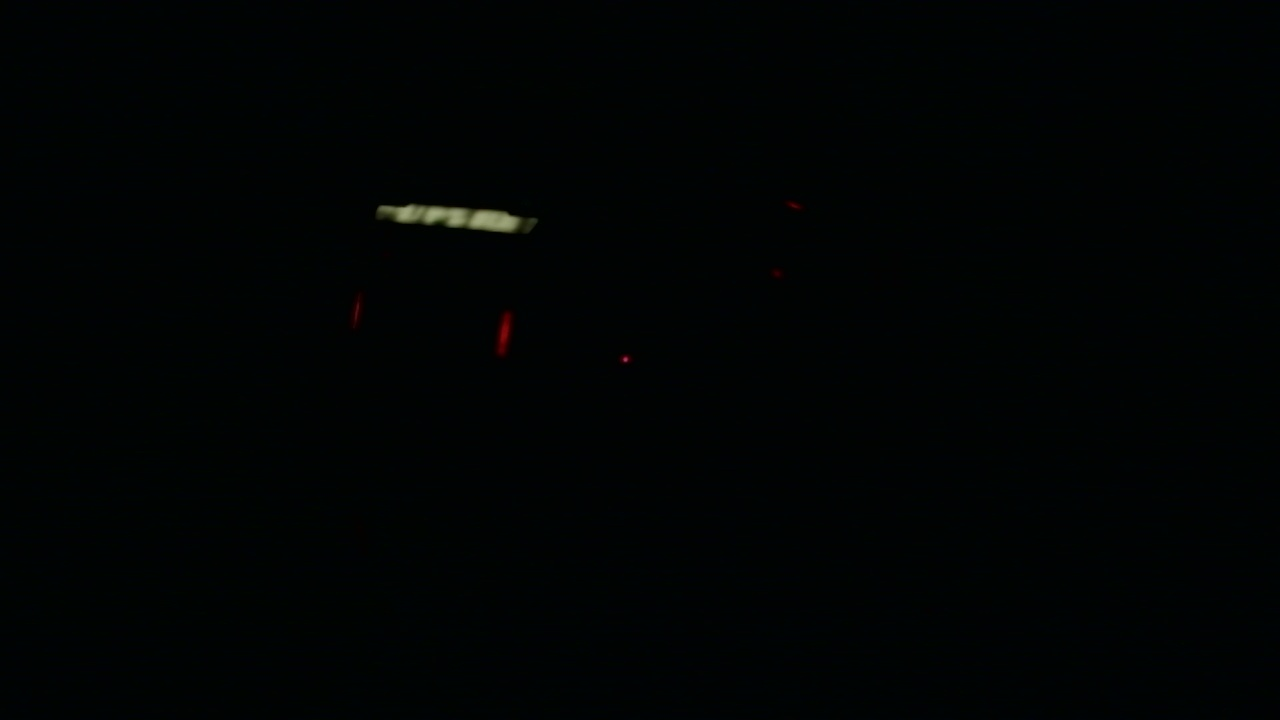lamp: (498, 298, 510, 348), (348, 299, 360, 347)
pair2: (351, 300, 513, 348)
